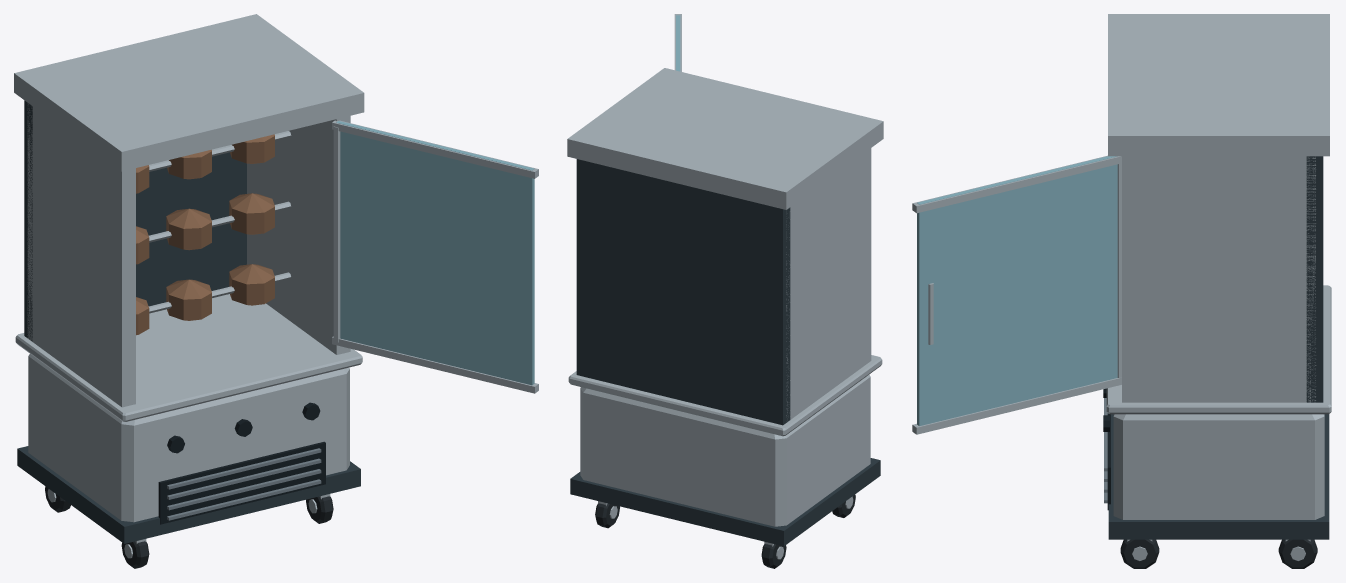
Rendered from b10_commercial_rotisserie_display_cabinet.glb.
The picture shows the model from 3 angles, left to right: view 1: azimuth 30°, elevation 25°; view 2: azimuth 150°, elevation 25°; view 3: azimuth 270°, elevation 25°; orthographic projection. The views are drawn at different scales.
Visible parts, largest first — view 1: b10_commercial_rotisserie_display_cabinet; view 2: b10_commercial_rotisserie_display_cabinet; view 3: b10_commercial_rotisserie_display_cabinet.
Boxes of the visible parts, box(x1,y1,x2,y2) form: b10_commercial_rotisserie_display_cabinet: box(14, 14, 538, 568); b10_commercial_rotisserie_display_cabinet: box(567, 14, 883, 568); b10_commercial_rotisserie_display_cabinet: box(912, 14, 1331, 568).
Bounding box in the file's own units: 1.39 × 1.77 × 1.51.
